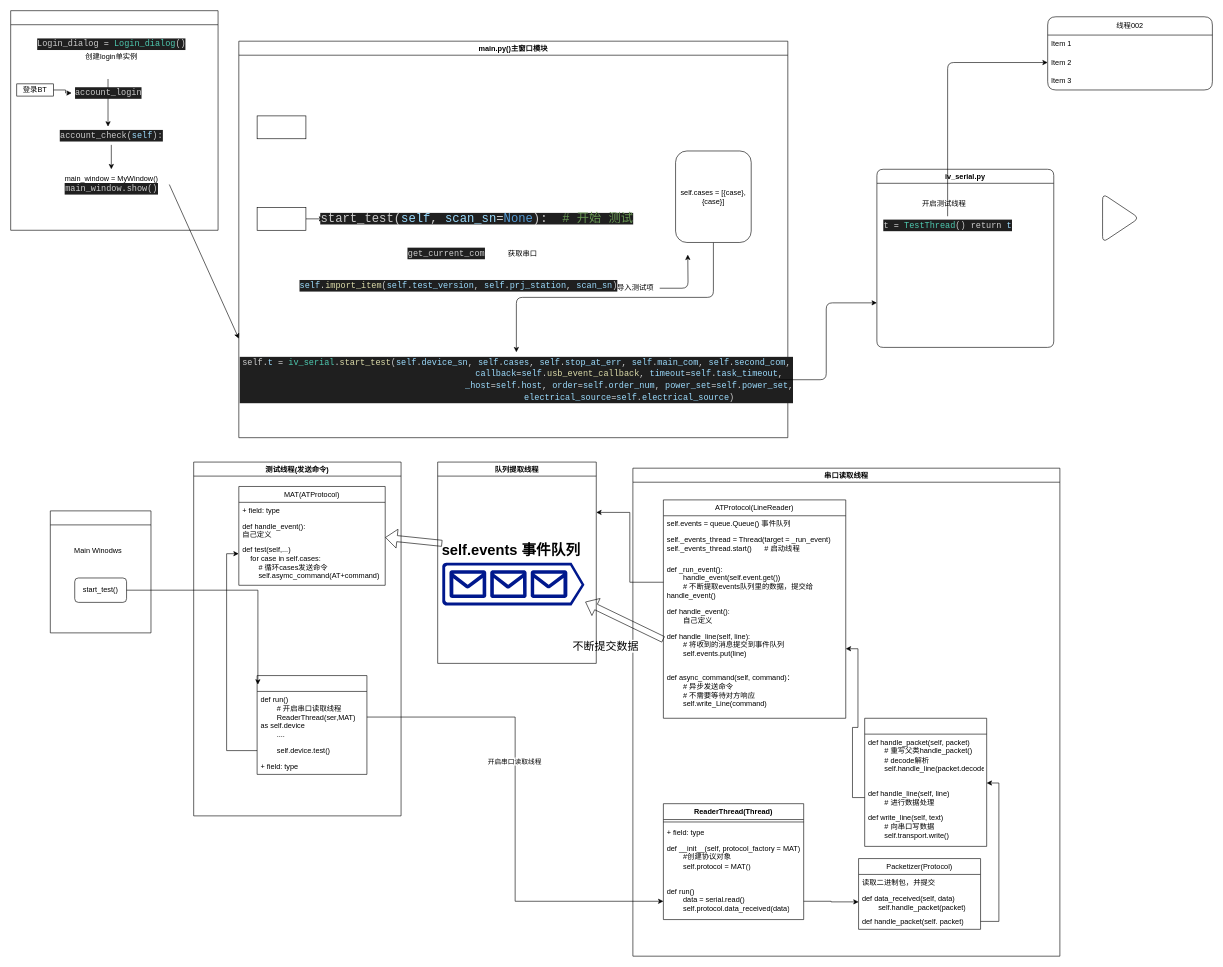
The diagram is 1223 pixels wide and 967 high, and some of its shapes have lost their labels. Here are the shapes that lost their labels. From the top down, the box of each, then its label:
(10, 10, 218, 230): login.py(登录模块)
(257, 115, 306, 139): 扫码枪
(257, 207, 306, 230): 开始测试按钮
(50, 510, 151, 633): 主线程(UI显示)
(257, 675, 367, 774): Class TestThread
(864, 718, 987, 846): LineReader(Packetizer)
